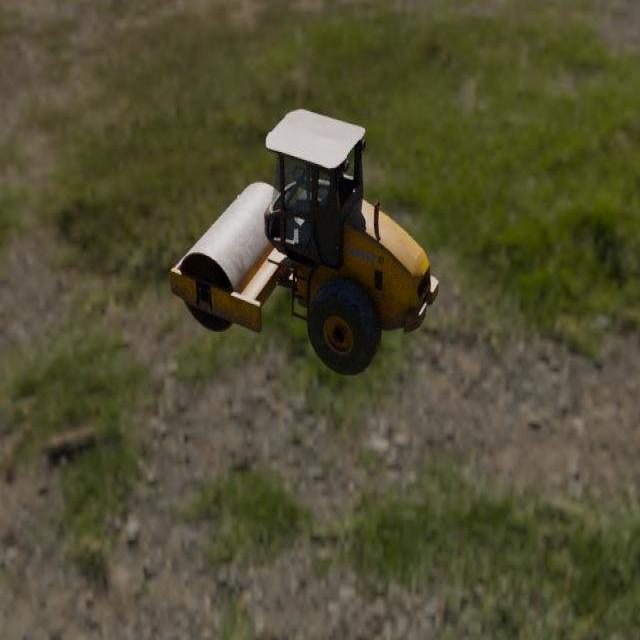Roller: (169, 108, 439, 376)
